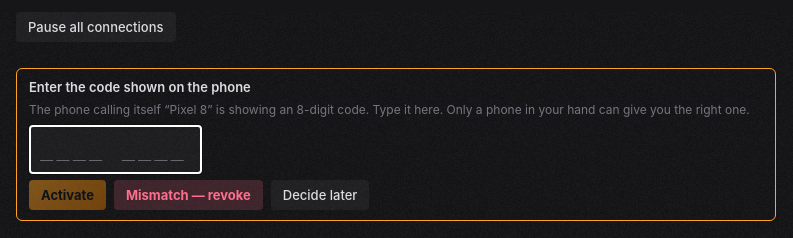
Test: SettingsMobileTab › the single code input keeps eight grouped positions visible without submitting while typing
The image size is (793, 238).
Expected: the text with test id "pairing-sas-slots" reads "____ ____", [40,136,187,161]
In the field named "8-digit code shown on the phone": [115, 149] box [29,125,202,174], type "82"
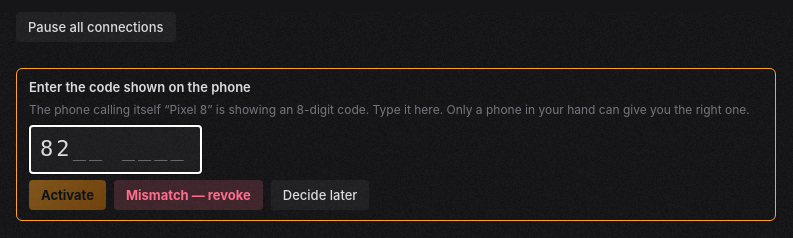
Now the text with test id "pairing-sas-slots" reads "__ ____", box [40,136,187,161]
Replace the text in the field named "8-digit code shown on the phone" with "82654321": [115, 149] box [29,125,202,174]
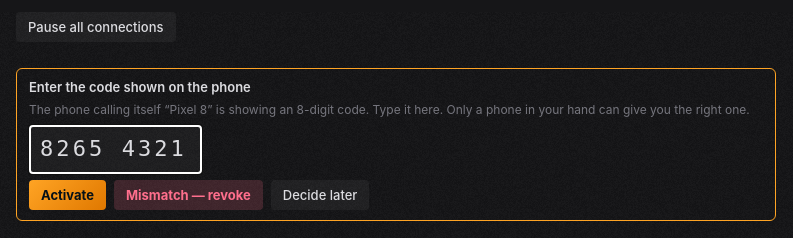
Now the field named "8-digit code shown on the phone" holds "8265 4321"
Now the element with test id "pairing-sas-slots" is empty, box [40,134,187,165]
Clear the field named "8-digit code shown on the phone": [115, 149] box [29,125,202,174]
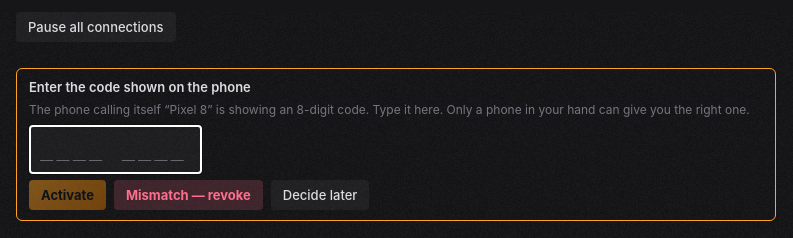
Now the text with test id "pairing-sas-slots" reads "____ ____", box [40,136,187,161]
